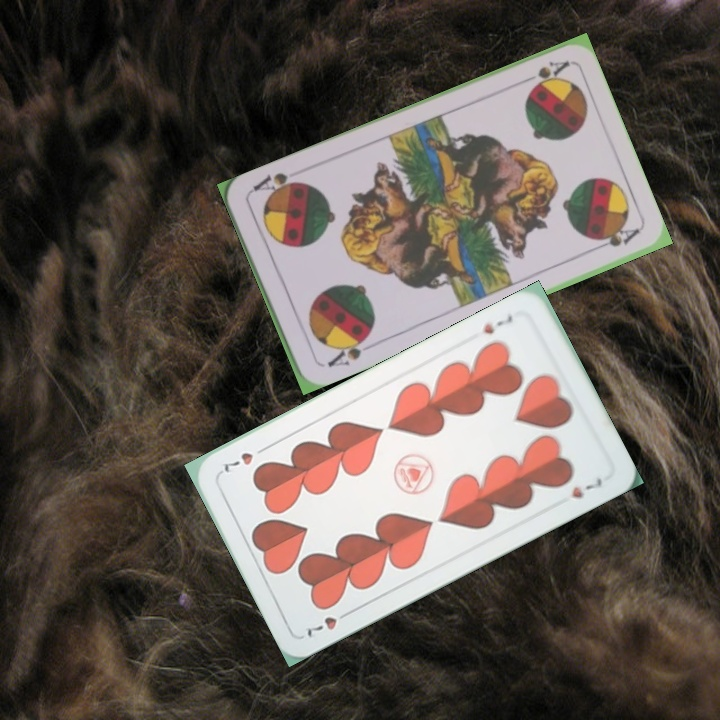H7: (301, 606, 355, 643), (478, 309, 515, 337)
SA: (515, 56, 572, 92), (323, 332, 374, 370)
